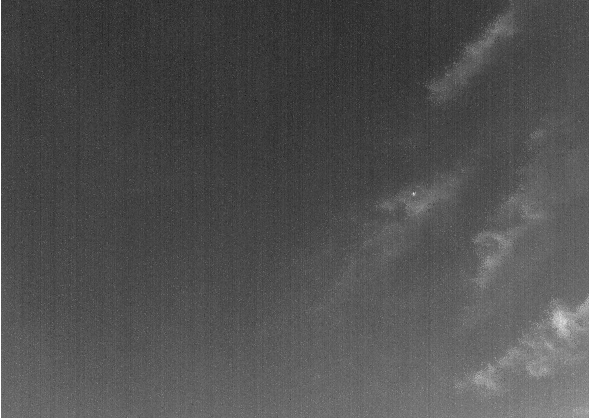dim target: (410, 191, 417, 197)
